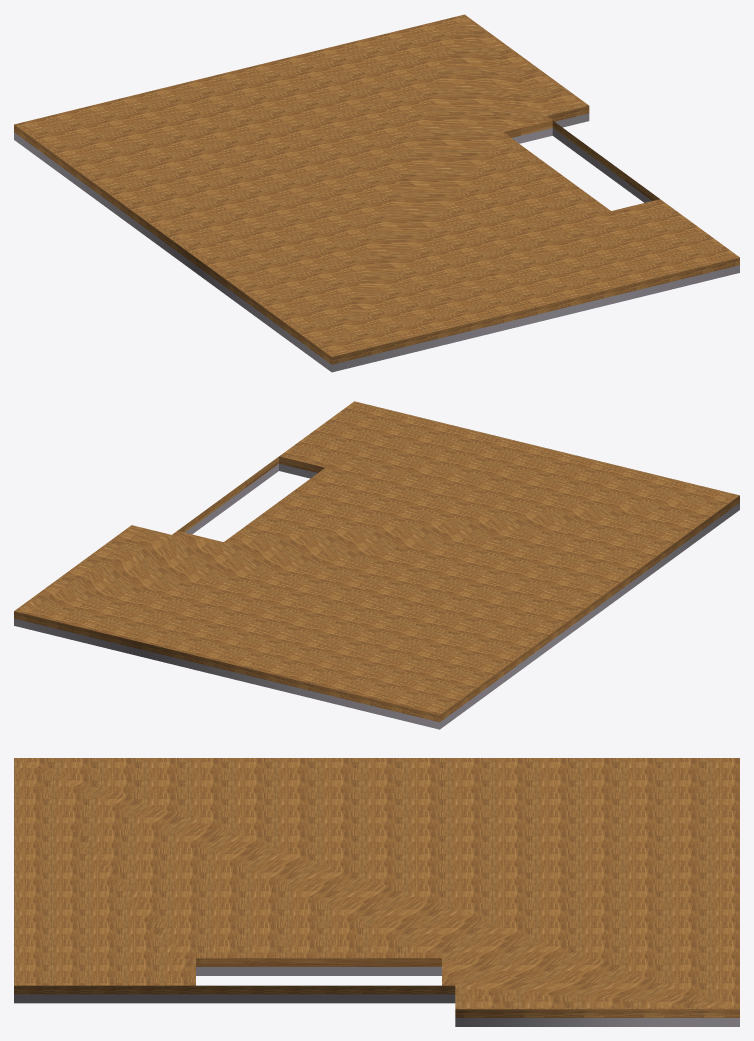
Rendered from EG_boden.gltf.
The picture shows the model from 3 angles, top to bottom: view 1: azimuth 30°, elevation 25°; view 2: azimuth 150°, elevation 25°; view 3: azimuth 270°, elevation 25°; orthographic projection. The views are drawn at different scales.
Parts seen in each view (by area): view 1: Boden.006, Boden.007; view 2: Boden.006, Boden.007; view 3: Boden.006, Boden.007.
Boxes of the visible parts, x1,y1,x2,y2 form: Boden.006: (14,14,739,364); Boden.007: (14,113,739,372); Boden.006: (14,401,739,722); Boden.007: (14,463,739,729); Boden.006: (14,758,739,1017); Boden.007: (14,967,739,1026).
Size of the model in its own units: 9.19 by 0.3 by 11.22.
2 materials, 1 textured.
